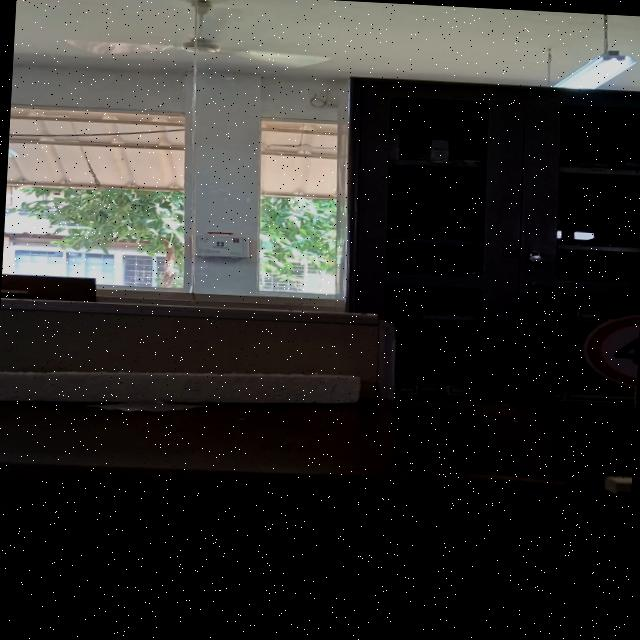Speed40: (576, 306, 640, 394)
